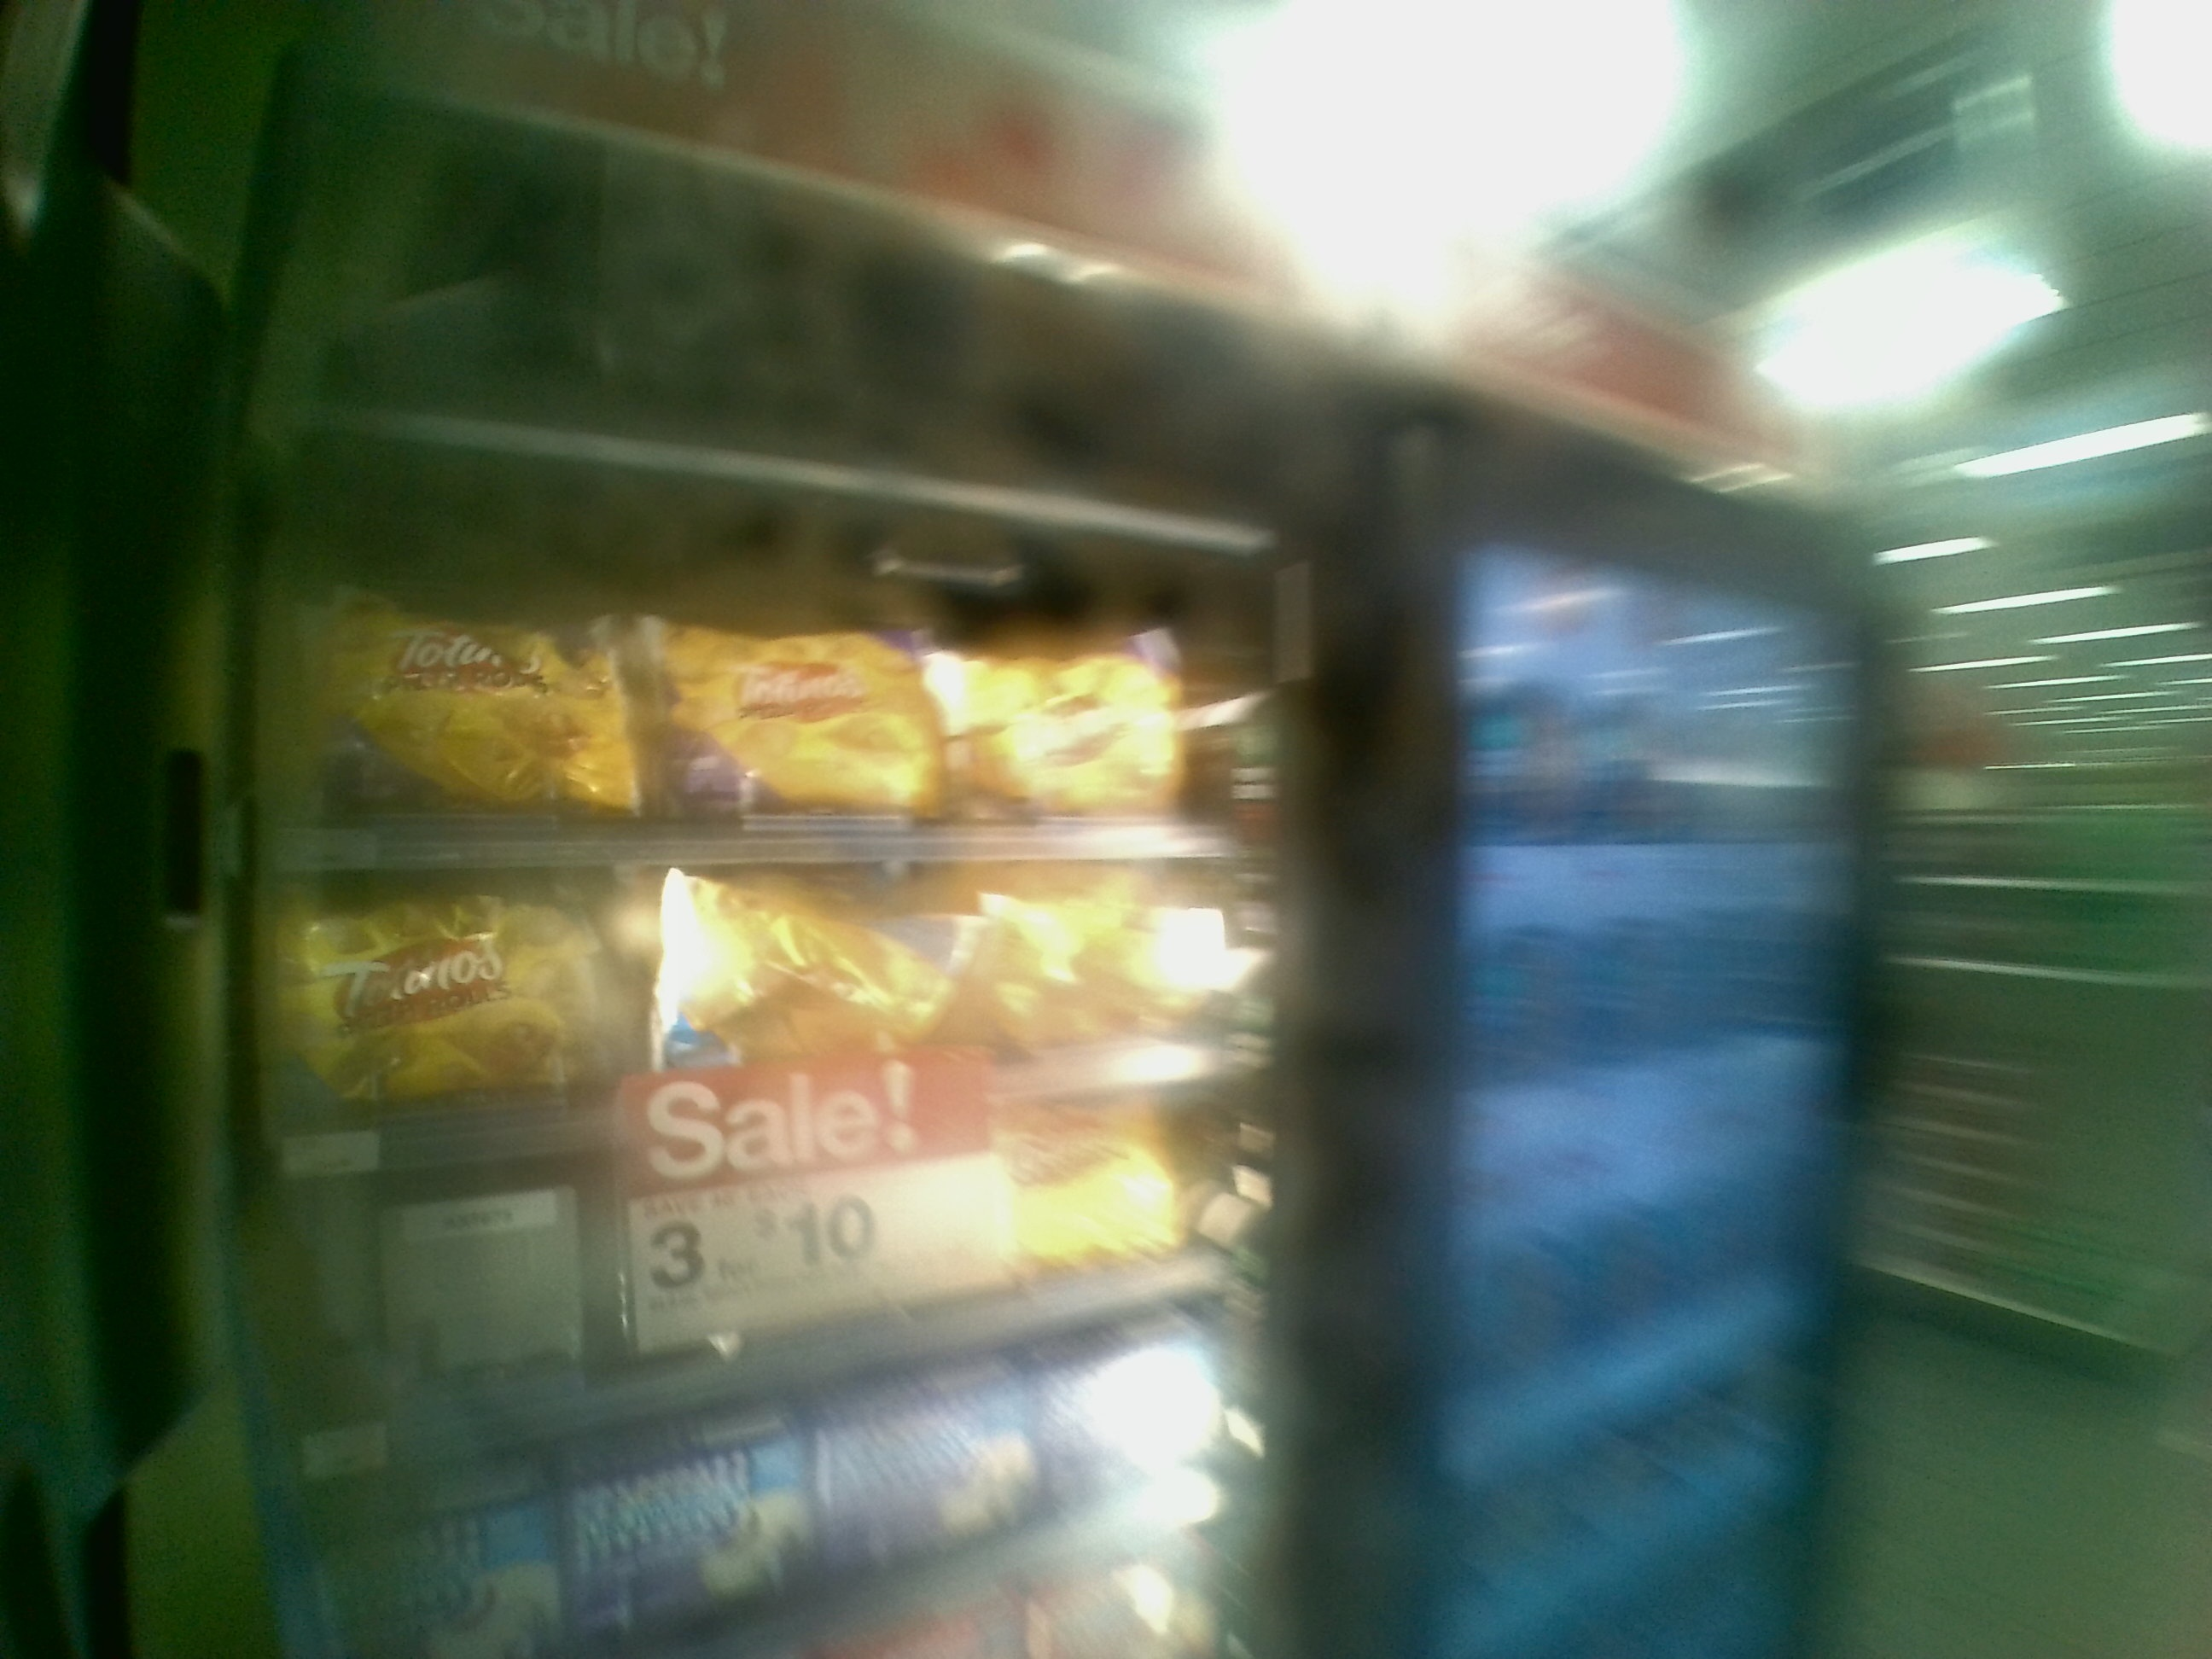shelf: (287, 849, 1350, 1155)
